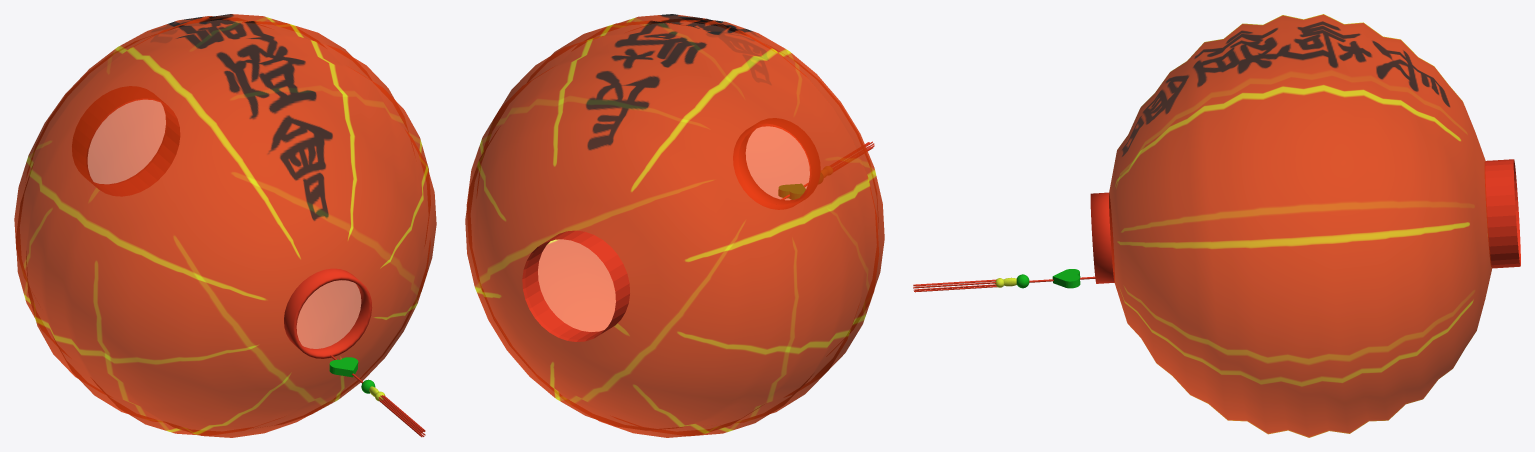
File: asset.glb
3 views of the same model, side by side, from view 1: azimuth 30°, elevation 25°; view 2: azimuth 150°, elevation 25°; view 3: azimuth 270°, elevation 25° (orthographic).
Visible parts, largest first — view 1: 球, した, うえ, 立方体; view 2: 球, うえ, した; view 3: 球, うえ, した.
Boxes of the visible parts, x1,y1,x2,y2 form: 球: (14,14,436,437); した: (284,268,372,358); うえ: (86,98,179,196); 立方体: (329,357,358,377); 球: (465,14,884,437); うえ: (522,230,629,341); した: (733,123,811,209); 球: (1109,14,1492,437); うえ: (1485,159,1520,268); した: (1090,192,1114,283).
Bounding box in the file's own units: 4.84 × 4.84 × 6.93.
4 materials, 1 textured.
